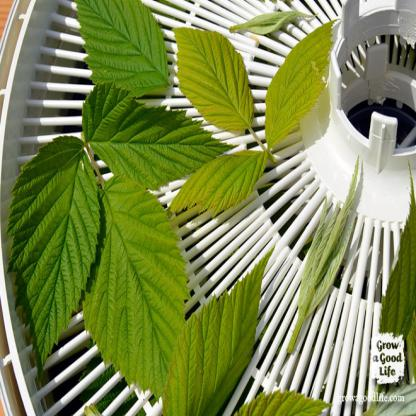raspberry leaf: (69, 180, 188, 390), (8, 131, 100, 371), (76, 76, 228, 187), (265, 18, 337, 151), (172, 25, 253, 137), (167, 144, 268, 214)
